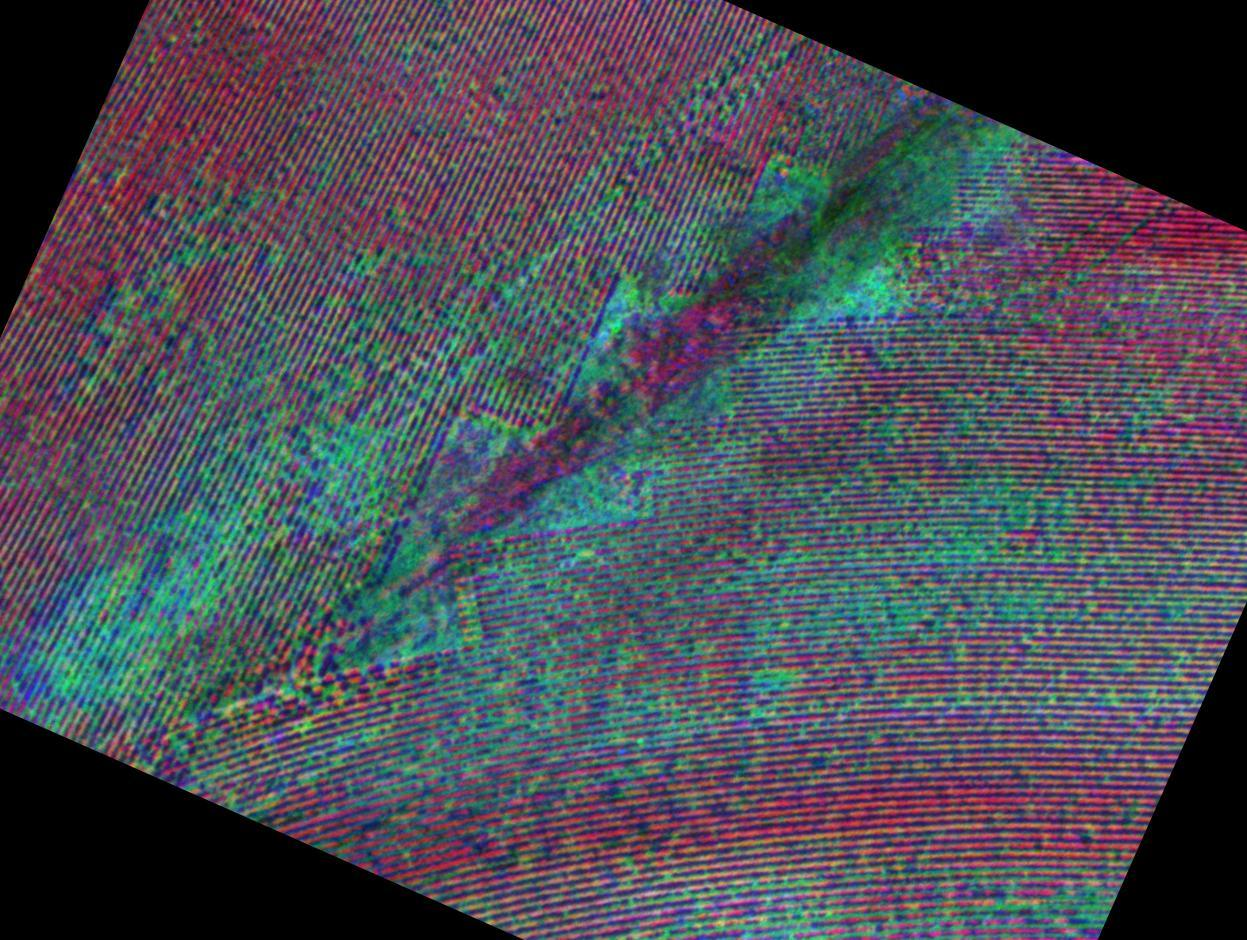dc: (321, 422, 391, 501), (198, 482, 259, 563), (62, 609, 122, 675), (827, 251, 888, 312), (912, 171, 966, 230), (410, 599, 458, 646)
